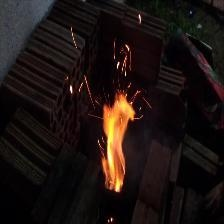fire: (88, 67, 142, 190)
